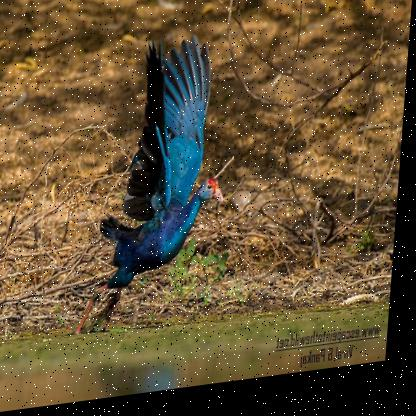Burung: (78, 35, 242, 336)
